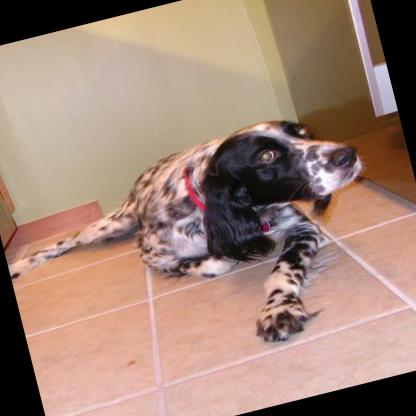English_setter: (0, 94, 404, 404)
